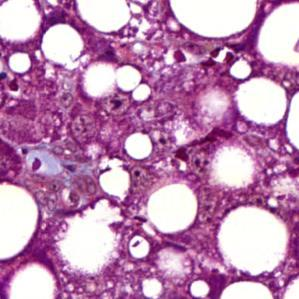steatosis: (220, 207, 287, 269), (150, 184, 196, 229)
